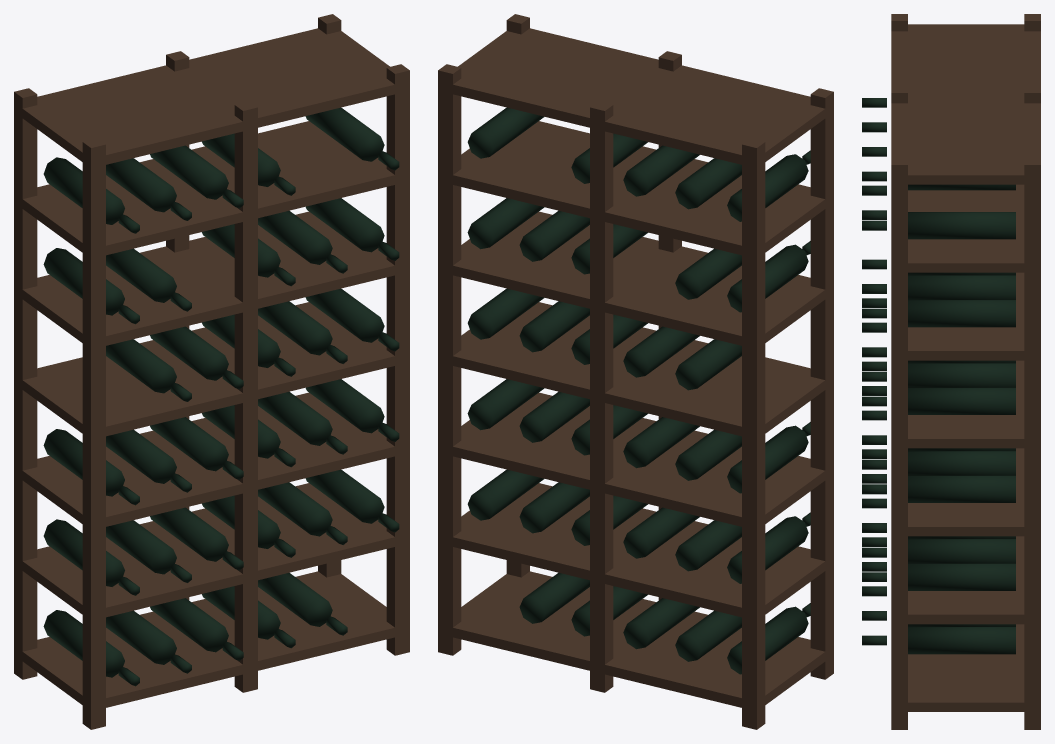
Rendered from bottle_rack.glb.
The picture shows the model from 3 angles, left to right: view 1: azimuth 30°, elevation 25°; view 2: azimuth 150°, elevation 25°; view 3: azimuth 270°, elevation 25°; orthographic projection. The views are drawn at different scales.
Visible parts, largest first — view 1: bottle_rack; view 2: bottle_rack; view 3: bottle_rack.
Boxes of the visible parts, left/top/right/bottom form: bottle_rack: left=14, top=14, right=409, bottom=729; bottle_rack: left=438, top=14, right=833, bottom=729; bottle_rack: left=862, top=14, right=1040, bottom=729.
Size of the model in its own units: 0.86 by 1.5 by 0.43.
